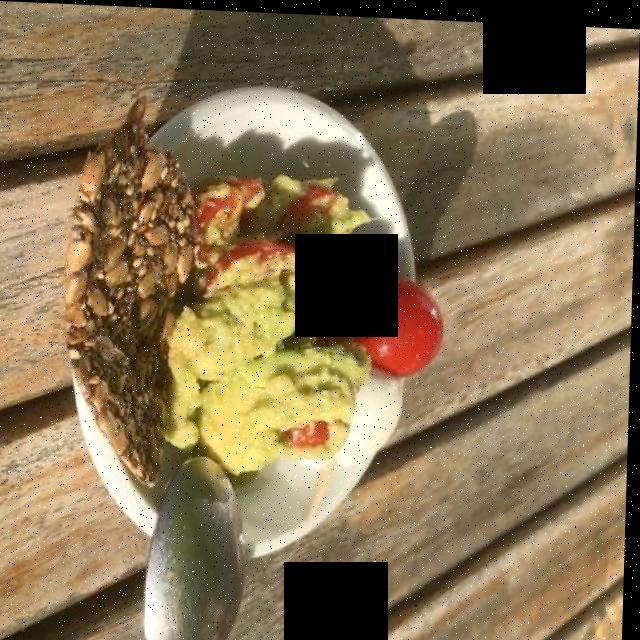avocado: (166, 210, 374, 494), (171, 173, 365, 467)
tomato-raw: (194, 167, 437, 371), (363, 278, 444, 372)
